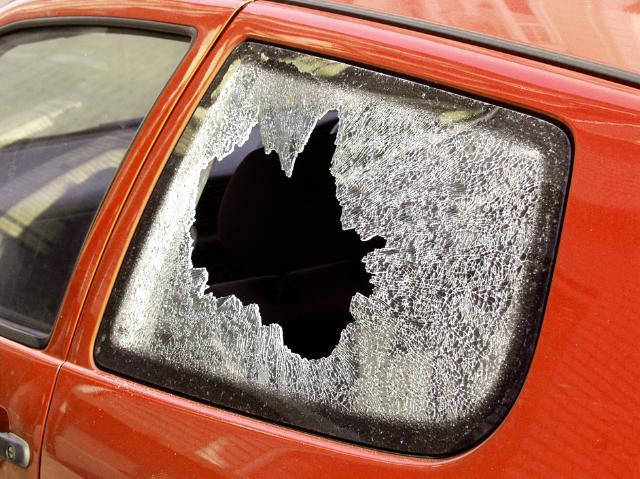Door: (46, 19, 640, 479)
